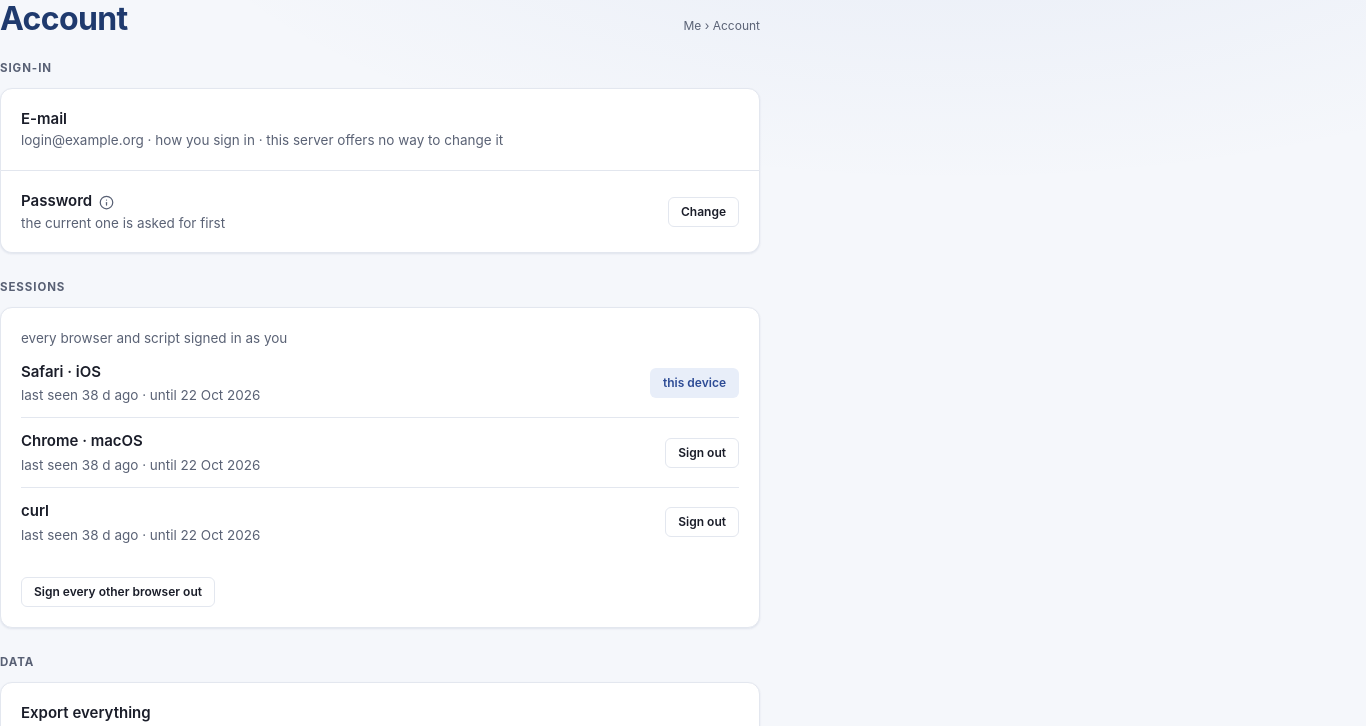
Test: where this person is signed in › leaves every session standing when the question is closed
This screenshot has width=1366, height=726.
expect the text "login@example.org" is shown: met, box [21, 132, 144, 148]
Click the button "Sign every other browser out" at (118, 592), box [21, 577, 215, 607]
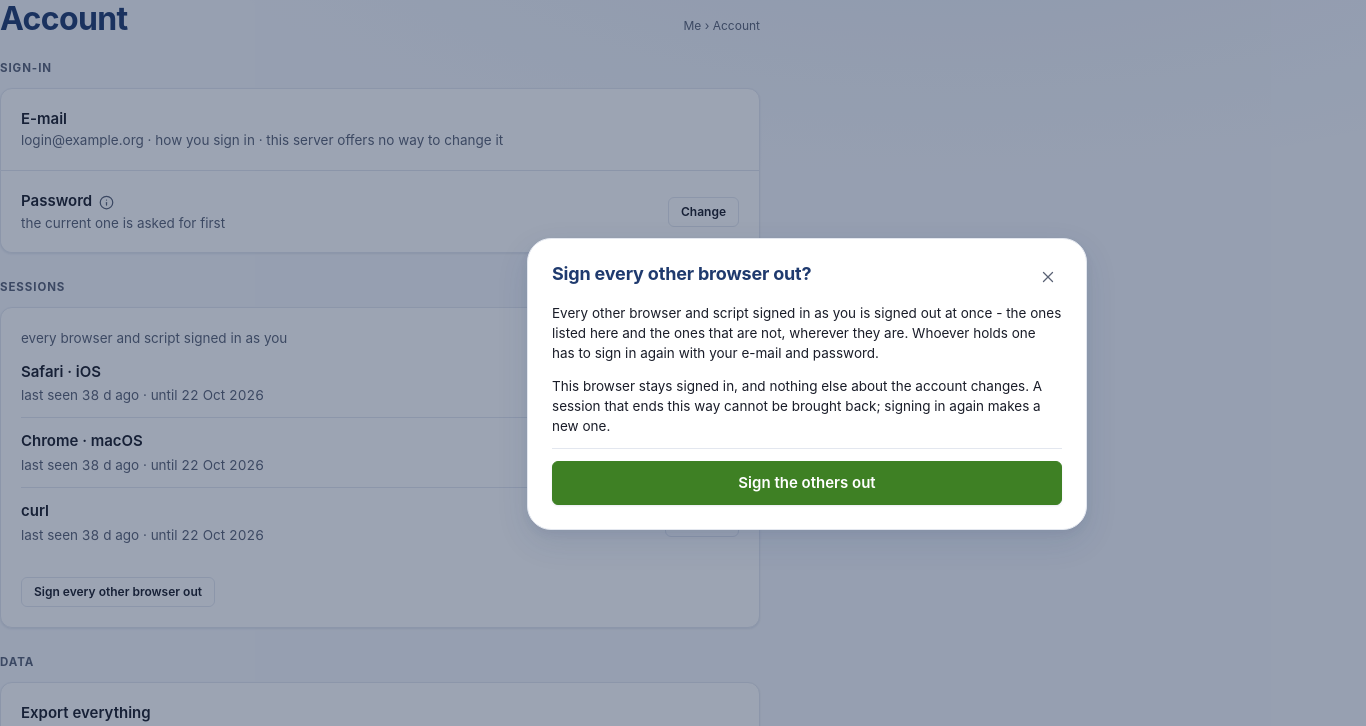
Click the button named "Close" at (1048, 277), box [1034, 263, 1062, 291]
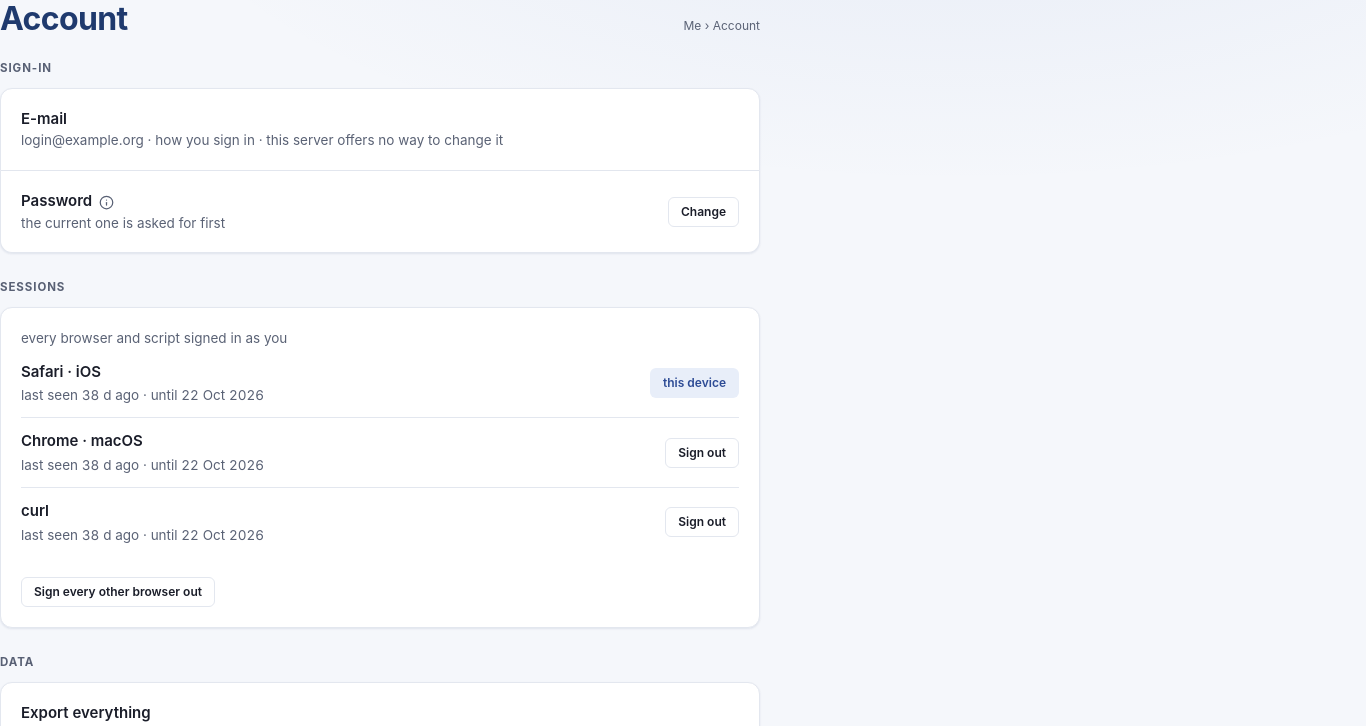
expect the number of list items is 3: met, box [21, 360, 739, 417]; [21, 417, 739, 487]; [21, 487, 739, 557]
expect the dialog is gone: met
